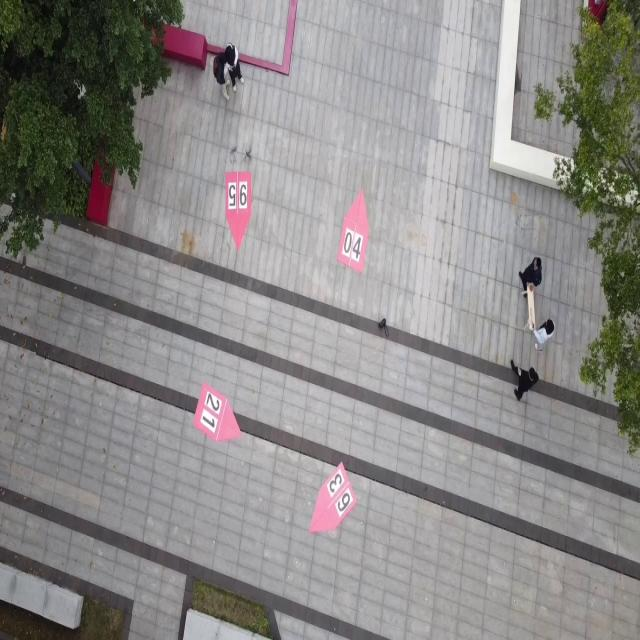-sign-: (309, 462, 359, 535), (192, 380, 242, 442), (337, 189, 369, 275), (224, 170, 251, 250)
